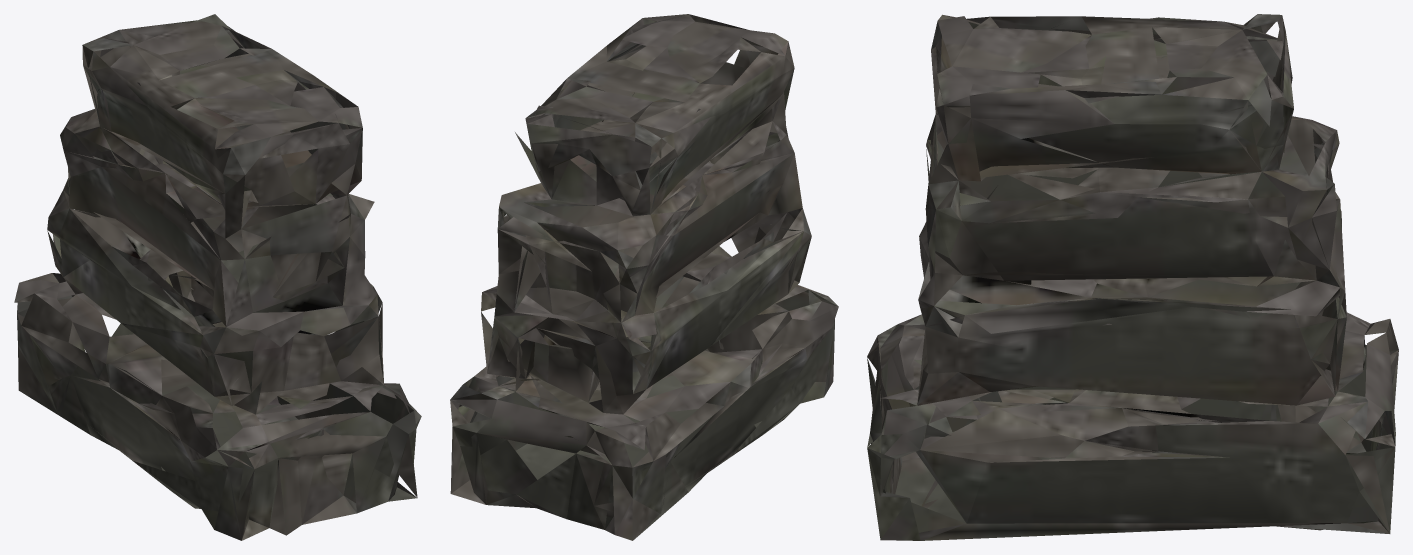
The model's file is crates_1007242721_lod0.glb.
3 renders of one model, left to right at view 1: azimuth 30°, elevation 25°; view 2: azimuth 150°, elevation 25°; view 3: azimuth 270°, elevation 25°, orthographic. The views are drawn at different scales.
Bounding box in the file's own units: 1.09 × 1.89 × 2.
1 material, 1 textured.
